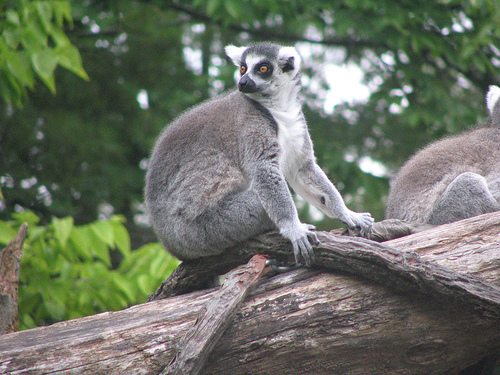cat: (140, 39, 376, 270), (385, 84, 499, 240)
